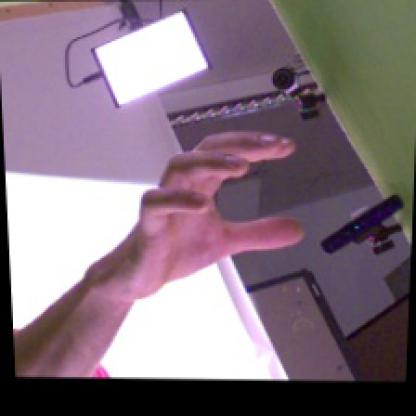Hand: (91, 133, 306, 284)
